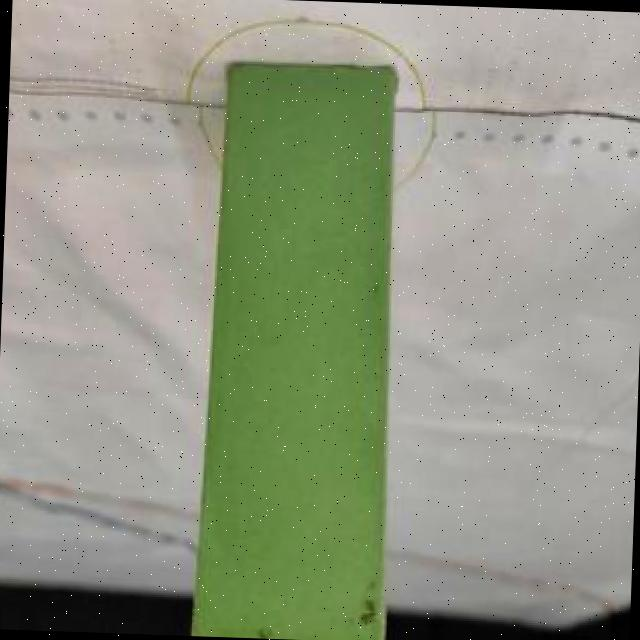greenbox: (192, 52, 409, 640)
